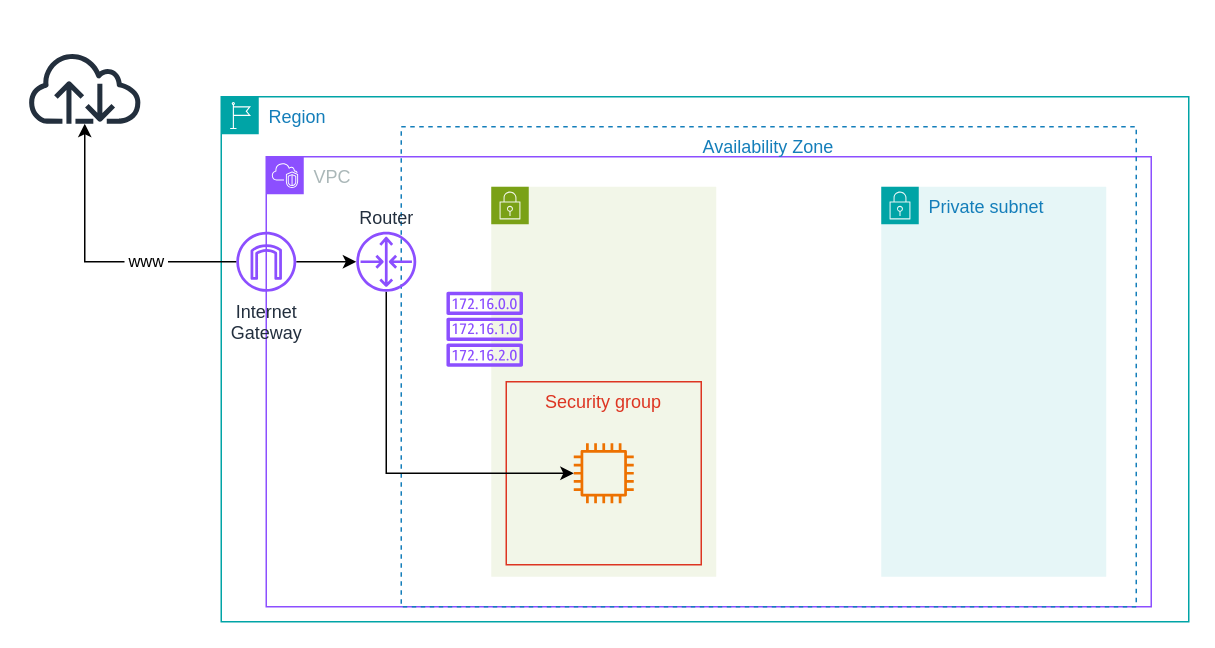
This 1215x648 diagram has some shape labels left out. The box of each missing label's shape, as (x1, y1, x2, y2) in pixels:
Internet: (26, 51, 142, 123)
Public EC2 Instance: (573, 442, 633, 502)
Public subnet: (490, 185, 716, 577)
Route Table: (446, 291, 522, 366)
